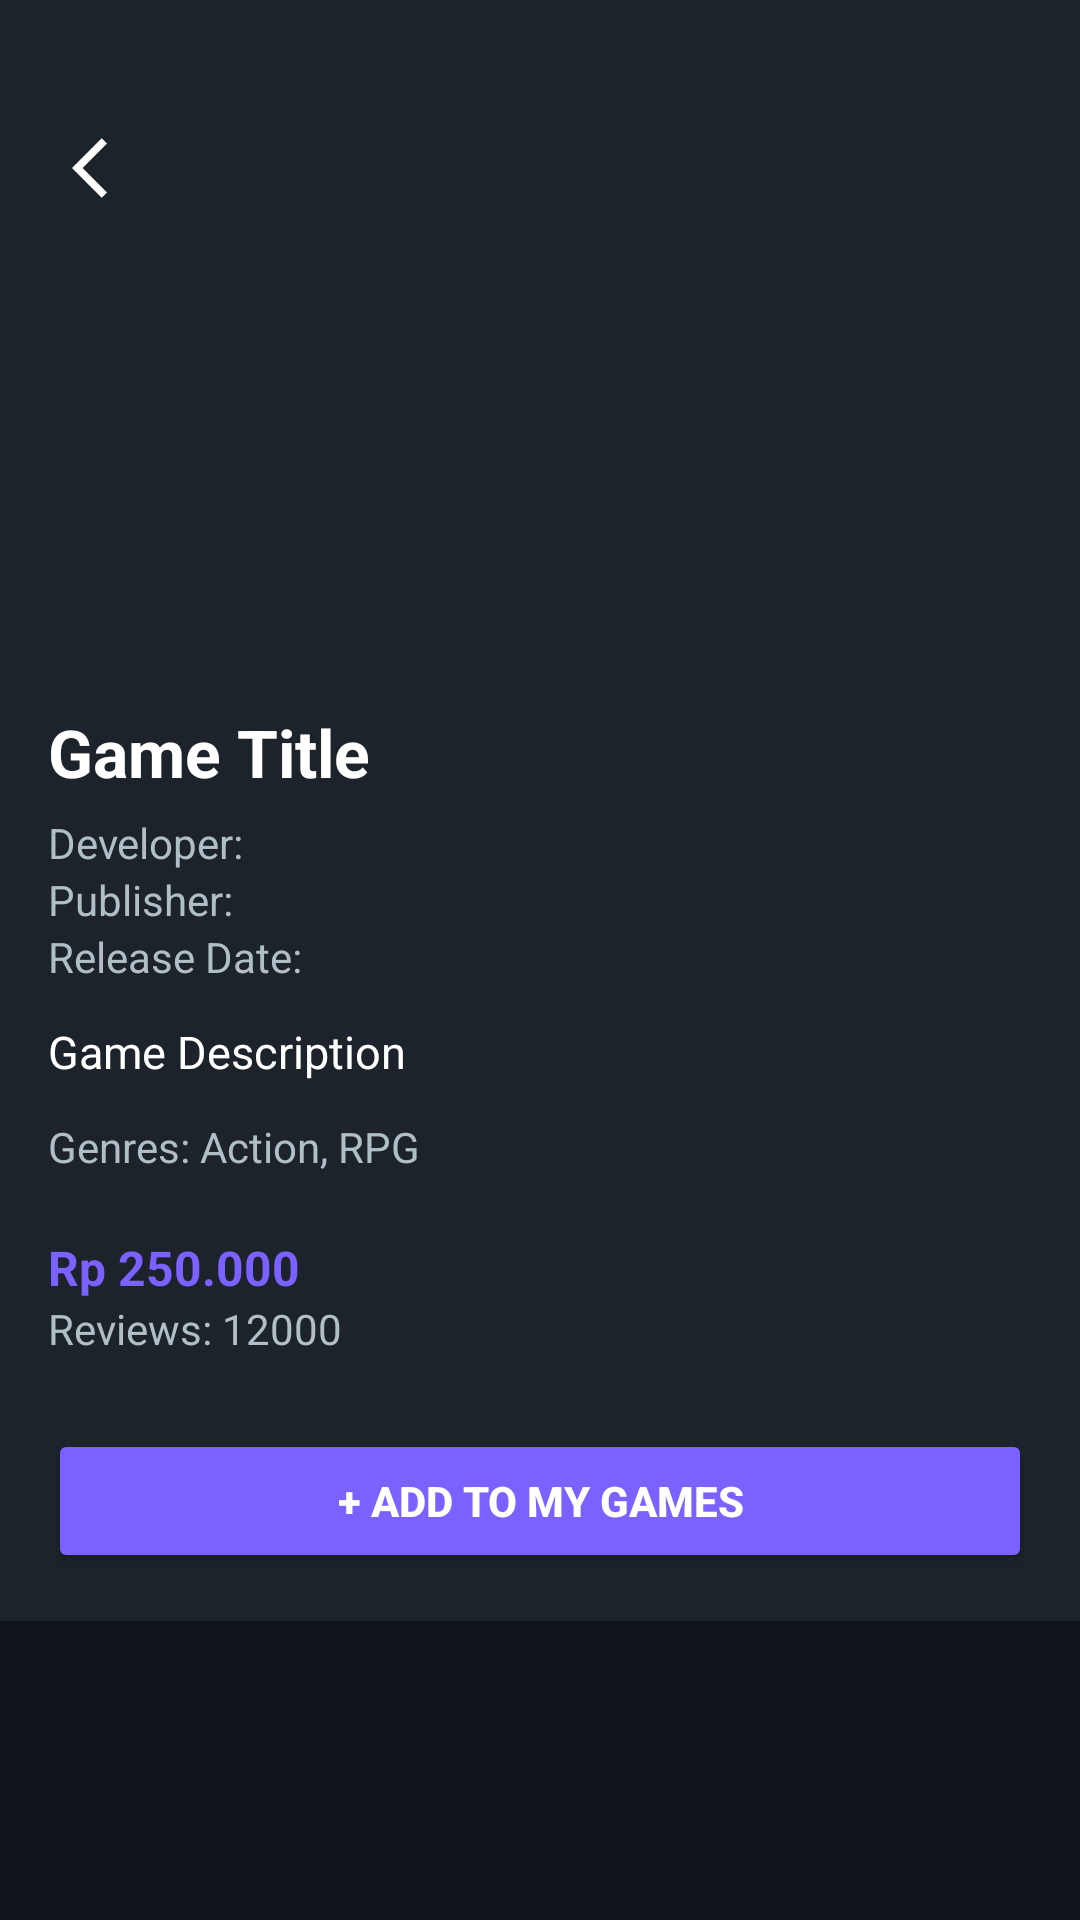

Locate icon controls on the screen. Image size 1080×1920, boxes as bbox(x1, y1, x2, y2).
Back: bbox(72, 138, 107, 198)
